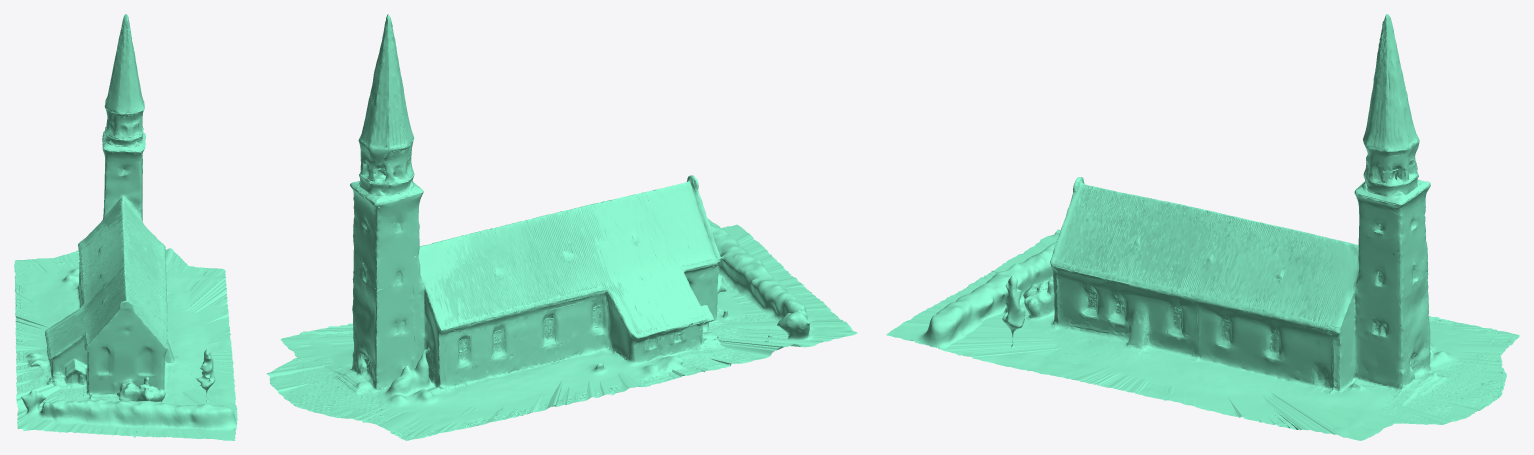
The picture shows the model from 3 angles, left to right: view 1: azimuth 30°, elevation 25°; view 2: azimuth 150°, elevation 25°; view 3: azimuth 270°, elevation 25°; orthographic projection. The views are drawn at different scales.
Parts seen in each view (by area): view 1: split_parent_0; view 2: split_parent_0; view 3: split_parent_0.
Boxes of the visible parts, bbox=[...] form: split_parent_0: bbox=[14, 14, 237, 440]; split_parent_0: bbox=[266, 14, 857, 440]; split_parent_0: bbox=[886, 14, 1519, 440].
Bounding box in the file's own units: 0.7875 × 0.65 × 1.
